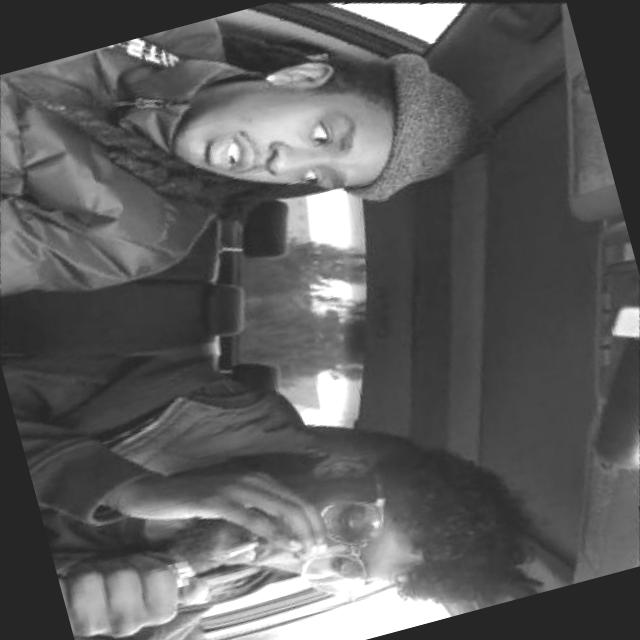smoke: (210, 523, 268, 568)
